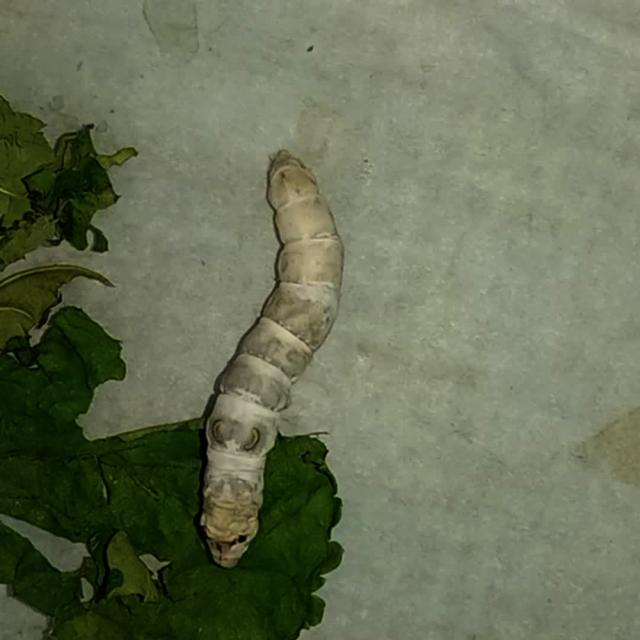Grasserie: (151, 129, 379, 574)
